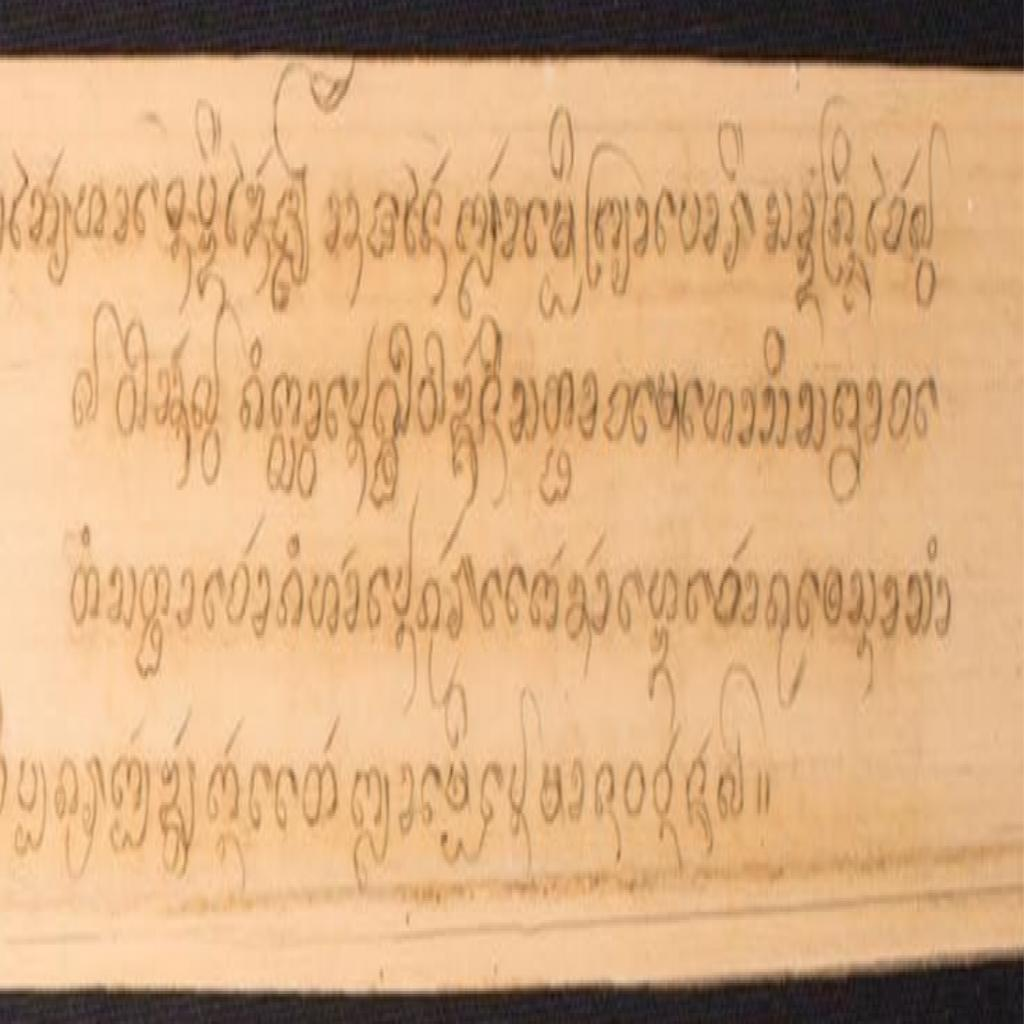LN025: (391, 526, 416, 622)
